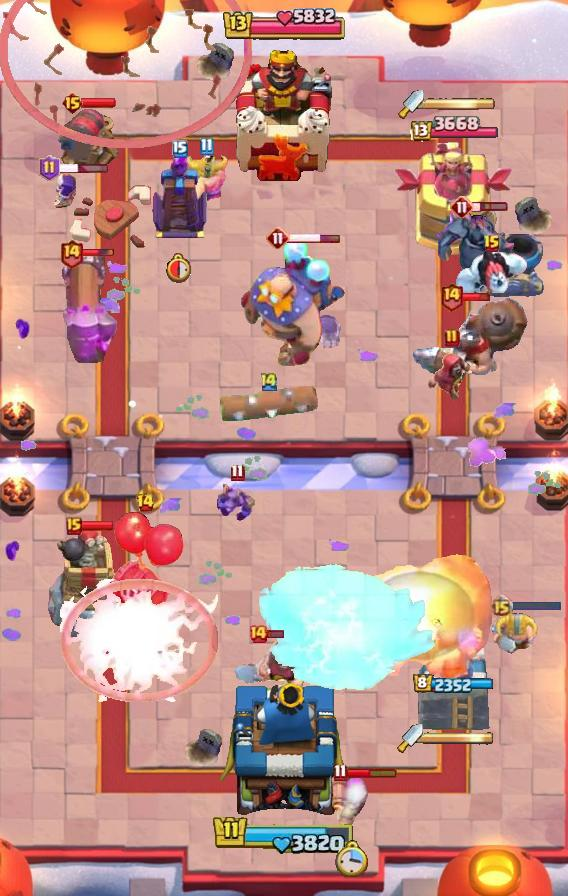bandit: (233, 633, 305, 699)
bar: (395, 142, 514, 256), (416, 637, 490, 731)
barbarian-evolution: (60, 579, 218, 702)
bowler: (428, 351, 476, 403)
clock: (212, 814, 356, 856), (221, 5, 347, 45)
elixir: (335, 839, 369, 876), (166, 252, 194, 283)
emote: (510, 599, 562, 612), (287, 232, 341, 244), (346, 767, 399, 779), (57, 162, 109, 174), (471, 201, 509, 213), (81, 97, 117, 109), (79, 520, 115, 532), (81, 248, 115, 258), (461, 292, 493, 302), (266, 629, 285, 639)
furnace: (57, 249, 119, 363)
goblin: (313, 315, 343, 353), (52, 172, 78, 208)
goblin-giant: (184, 154, 228, 210), (491, 610, 539, 653)
golemite: (434, 203, 518, 301)
ice-spirit-evolution-symbol: (150, 148, 210, 240)
king-tower: (219, 678, 349, 826), (232, 45, 336, 181)
king-tower-bar: (424, 97, 496, 111), (423, 731, 495, 745)
little-prince: (239, 236, 347, 370)
mega-knight: (254, 561, 438, 697)
minion: (219, 386, 319, 422)
musketeer: (484, 233, 544, 297)
rage: (454, 246, 530, 302)
royal-delivery: (216, 482, 258, 522)
royal-giant-evolution: (54, 105, 122, 175)
royal-recruit-evolution: (105, 510, 185, 624)
selected: (408, 116, 498, 144), (414, 673, 495, 695)
skeleton-barrel: (0, 0, 252, 150)
text: (60, 238, 85, 269), (440, 280, 465, 311), (450, 195, 474, 219), (266, 226, 290, 250), (61, 91, 84, 115), (39, 155, 60, 181), (491, 594, 514, 617), (259, 371, 279, 392), (248, 624, 268, 644), (136, 493, 155, 513), (483, 234, 501, 254), (444, 328, 460, 348), (172, 140, 188, 158), (66, 517, 82, 535), (333, 763, 348, 781), (199, 136, 213, 155), (231, 463, 245, 482)
tombstone: (330, 769, 374, 831)
valkyrie: (341, 552, 503, 684)
wizard: (409, 294, 529, 384)
zappy: (43, 527, 134, 643)
